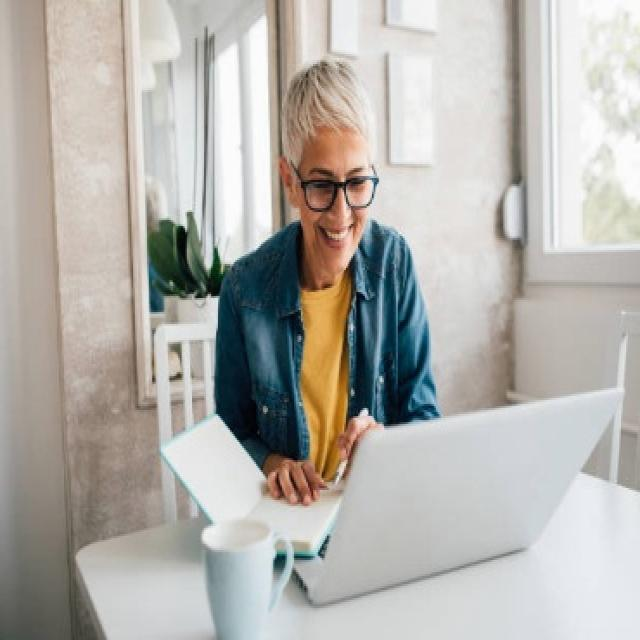adult: (221, 55, 442, 503)
